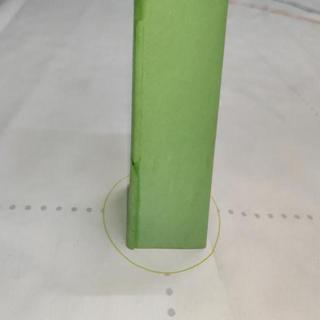greenbox: (127, 0, 231, 248)
